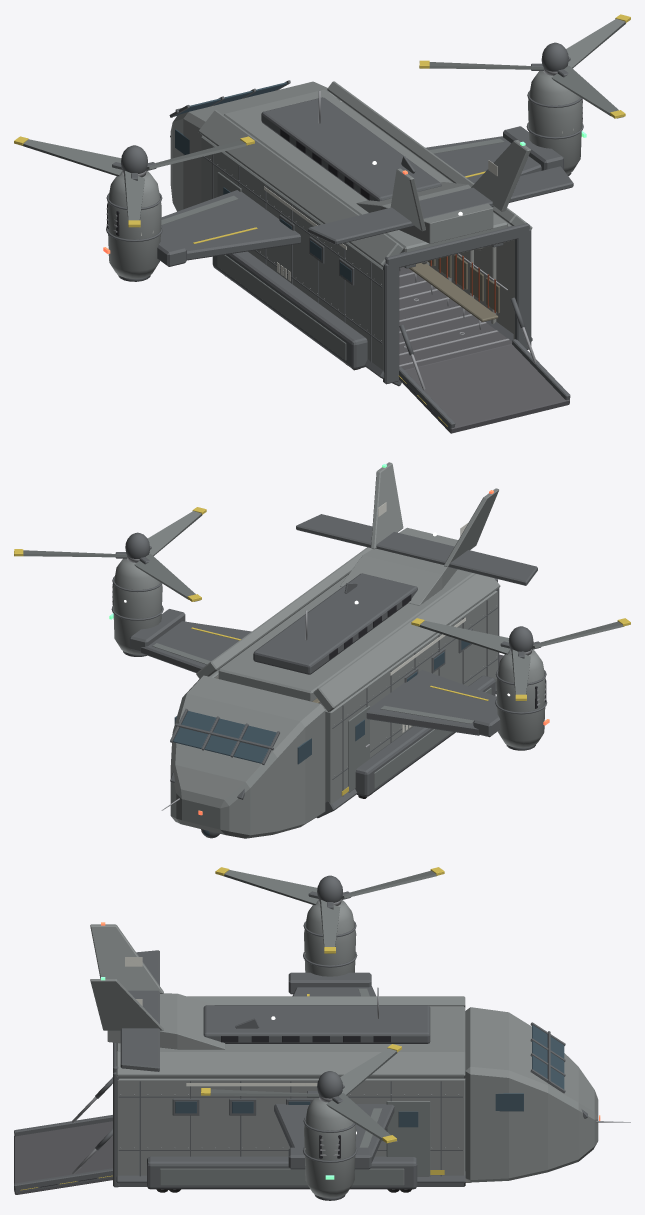
Rendered from dropship.glb.
3 renders of one model, top to bottom at view 1: azimuth 30°, elevation 25°; view 2: azimuth 150°, elevation 25°; view 3: azimuth 270°, elevation 25°, orthographic. The views are drawn at different scales.
Visible parts, largest first — view 1: Kondor, RampMesh, TiltL, TiltR, PropL, PropR, RampRams; view 2: Kondor, TiltL, TiltR, PropL, PropR; view 3: Kondor, RampMesh, TiltR, PropL, PropR, TiltL, RampRams.
Part boxes in pixels (x1,y1,x2,y2): Kondor: (103, 80, 586, 386); RampMesh: (398, 339, 570, 433); TiltL: (106, 171, 162, 281); TiltR: (526, 71, 583, 175); PropL: (14, 136, 254, 227); PropR: (419, 14, 630, 118); RampRams: (399, 297, 536, 390); Kondor: (109, 462, 549, 838); TiltL: (495, 649, 547, 750); TiltR: (111, 558, 163, 656); PropL: (411, 618, 630, 701); PropR: (14, 507, 206, 601); Kondor: (90, 922, 630, 1192); RampMesh: (14, 1115, 112, 1194); TiltR: (303, 1098, 357, 1200); PropL: (215, 867, 444, 953); PropR: (201, 1044, 401, 1143); TiltL: (303, 900, 357, 976); RampRams: (71, 1077, 112, 1174).
Size of the model in its own units: 14.85 by 5.5 by 14.15.
